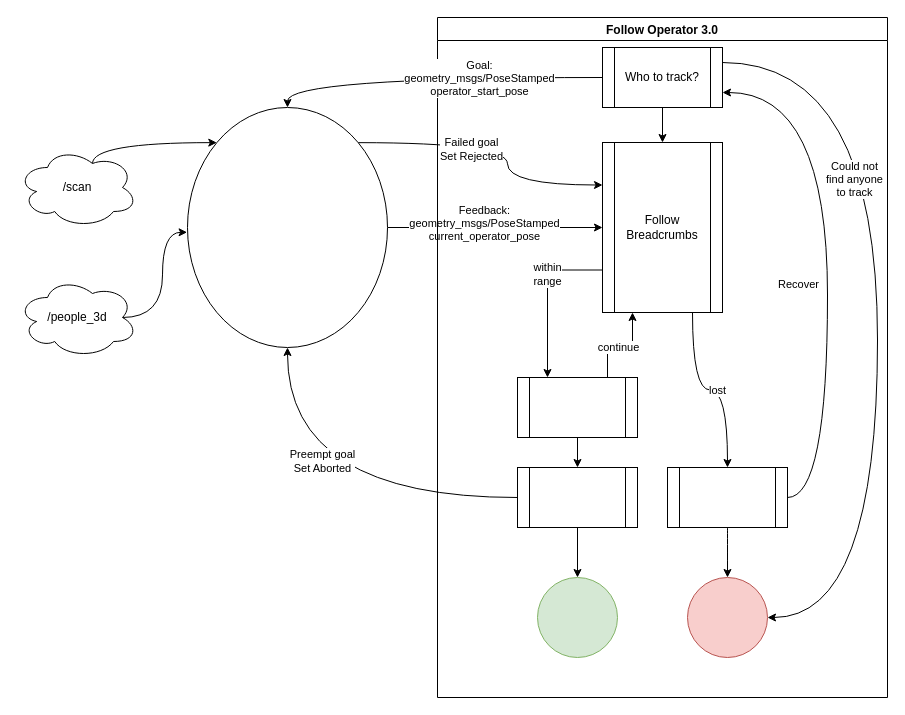
Image size: 905x715. Some labels were removed from this diagram. The shapes that lost their labels are listed below. From the top down, each one's centre as x and y in pixels, then its label:
At (x=287, y=227): "Person tracking algorithm (Action Server)".
At (x=577, y=617): "Done".
At (x=727, y=617): "Failed".
